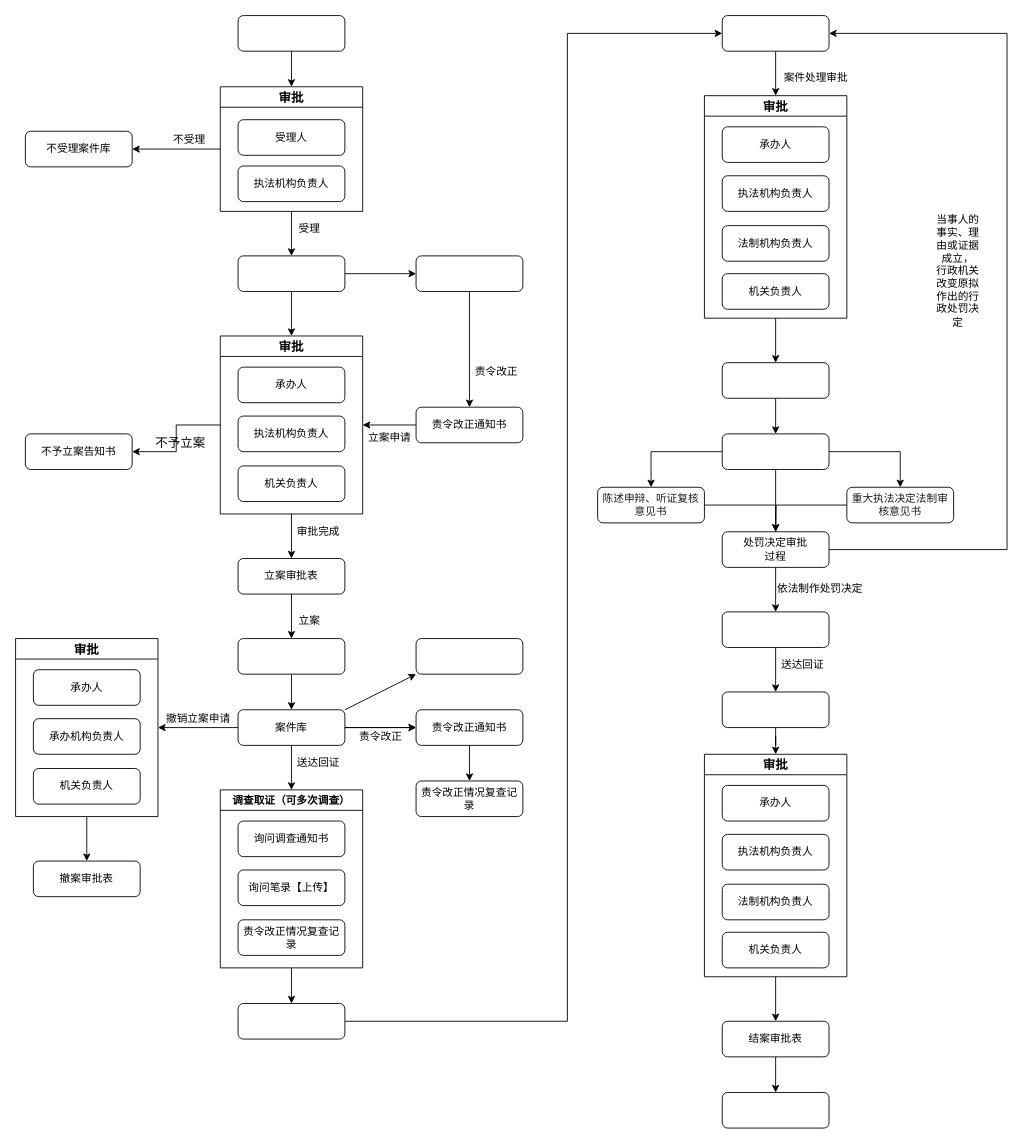
Image size: 1030x1144. Some labels were removed from this diagram. The shapes that lost their labels are listed below. From the top down, each one's centre as x and y in pixels, then its label:
pixel 291 33: 案件上报
pixel 775 33: 拟定处罚意见
pixel 291 273: 案件受理登记表
pixel 469 273: 现场检测（勘验）笔录【上传】
pixel 775 380: 案件处理审批表
pixel 775 451: 行政处罚事先告知书
pixel 775 629: 行政处罚决定书
pixel 291 656: 立案通知书
pixel 469 656: 回避决定书
pixel 775 709: 结案申请
pixel 291 1021: 案件调查终结报告
pixel 775 1110: 案件归档
